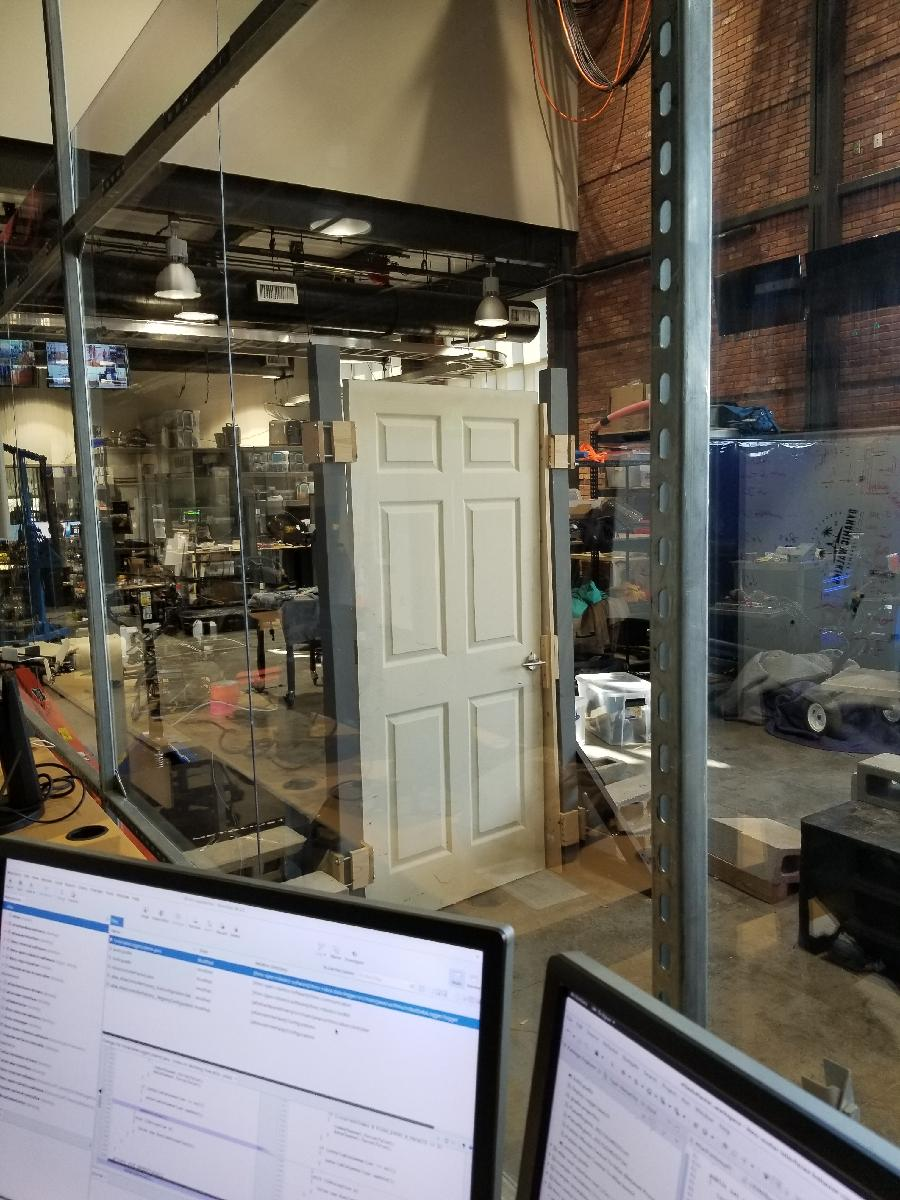door: (340, 375, 548, 941)
doorHandle: (519, 655, 546, 677)
